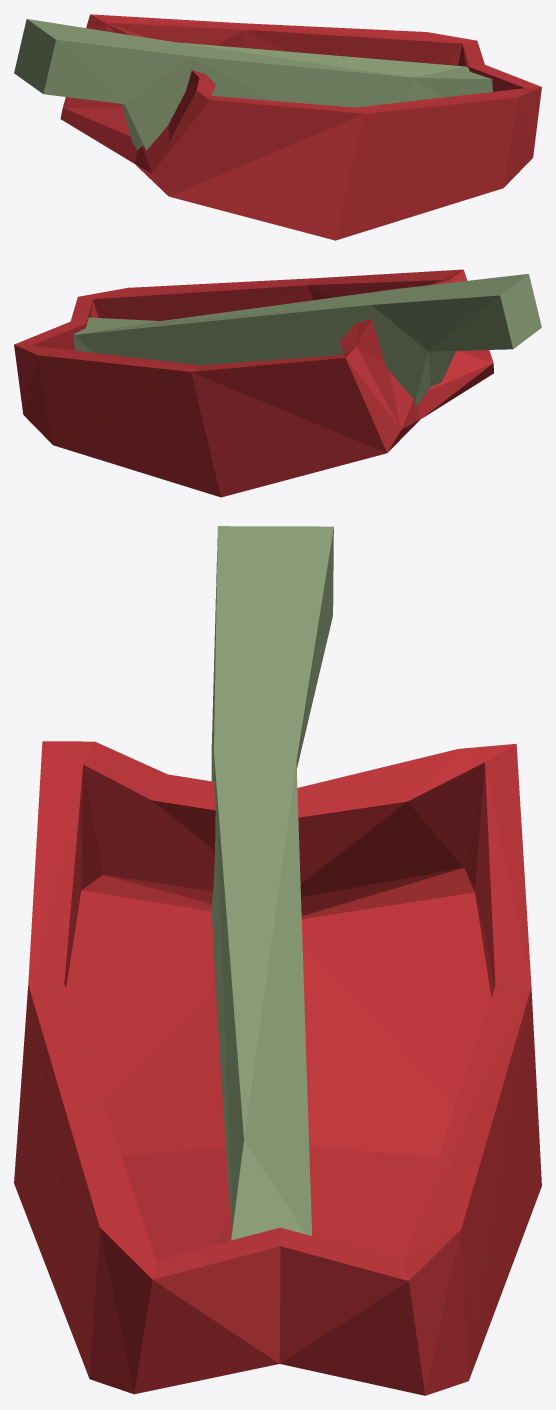
The model's file is bellpepperCut.fbx.
The picture shows the model from 3 angles, top to bottom: view 1: azimuth 30°, elevation 25°; view 2: azimuth 150°, elevation 25°; view 3: azimuth 270°, elevation 25°; orthographic projection. The views are drawn at different scales.
Visible parts, largest first — view 1: bellpepperCut; view 2: bellpepperCut; view 3: bellpepperCut.
Part boxes in pixels (box(x1,y1,x2,y2)): bellpepperCut: box(14, 14, 541, 240); bellpepperCut: box(14, 269, 541, 497); bellpepperCut: box(14, 526, 541, 1395).
Size of the model in its own units: 14.65 by 6.6 by 6.98.
1 material, 1 textured.
